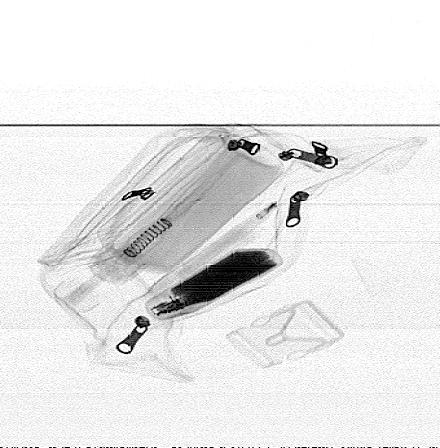Powerbank: (144, 248, 284, 320)
